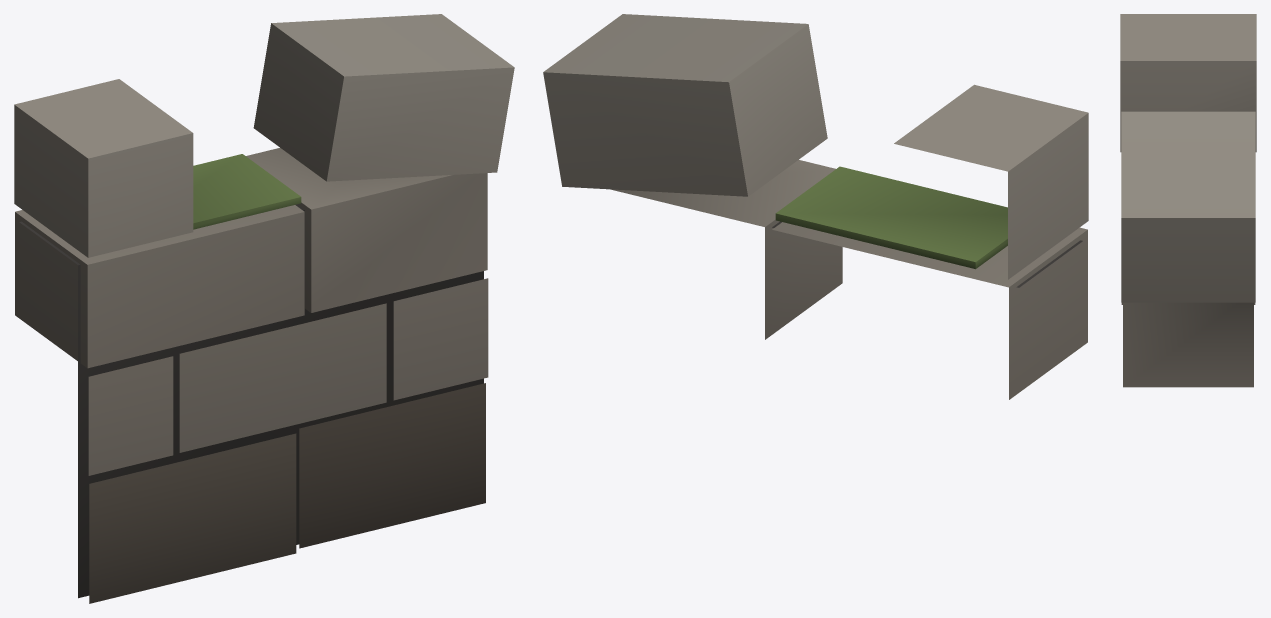
The model's file is ruins-wall-b-low.glb.
The picture shows the model from 3 angles, left to right: view 1: azimuth 30°, elevation 25°; view 2: azimuth 150°, elevation 25°; view 3: azimuth 270°, elevation 25°; orthographic projection. The views are drawn at different scales.
Parts seen in each view (by area): view 1: 0_ruins_wall_b; view 2: 0_ruins_wall_b; view 3: 0_ruins_wall_b.
Boxes of the visible parts, box(x1,y1,x2,y2) form: 0_ruins_wall_b: box(14, 14, 514, 603); 0_ruins_wall_b: box(543, 14, 1088, 399); 0_ruins_wall_b: box(1120, 14, 1256, 387).
Size of the model in its own units: 2.11 by 2.17 by 0.6372.
